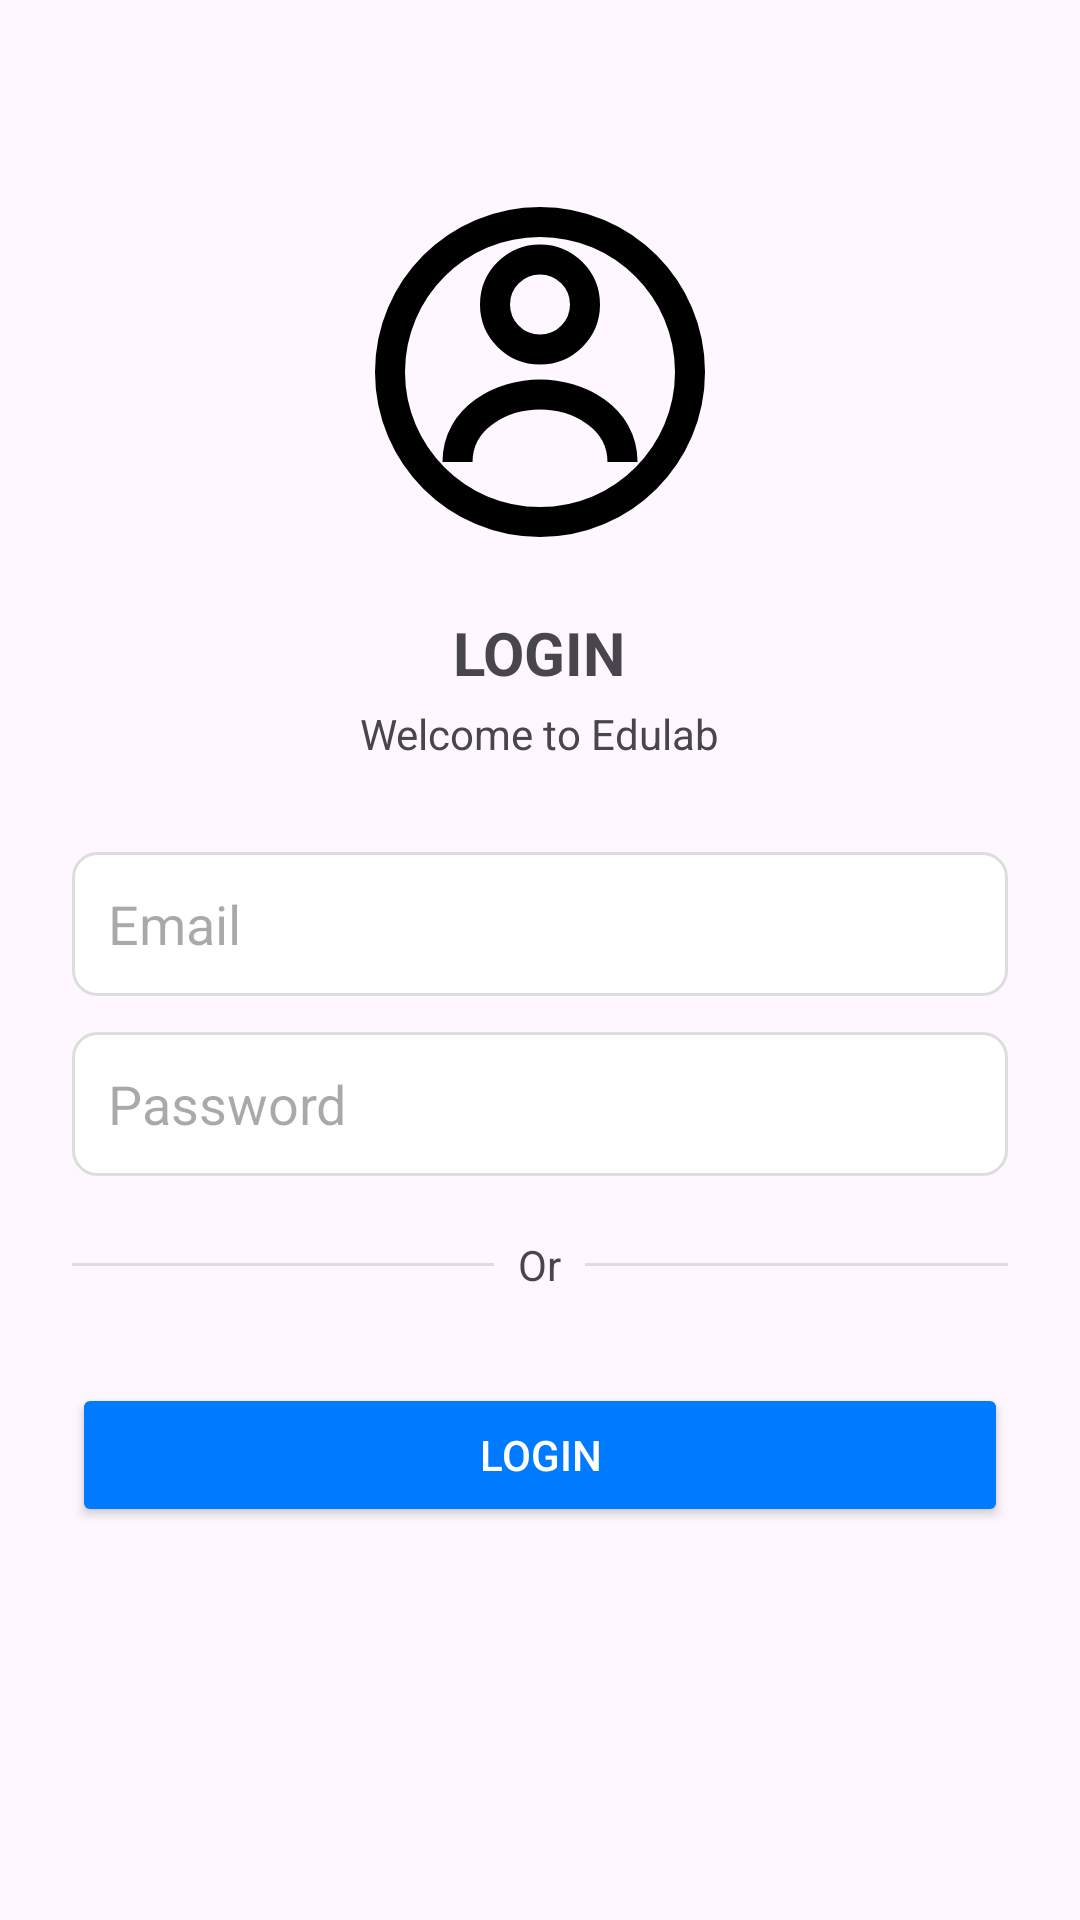

Where to tap for icons on this 1080x1920 app screen, as point (x, y):
user: point (540, 372)
